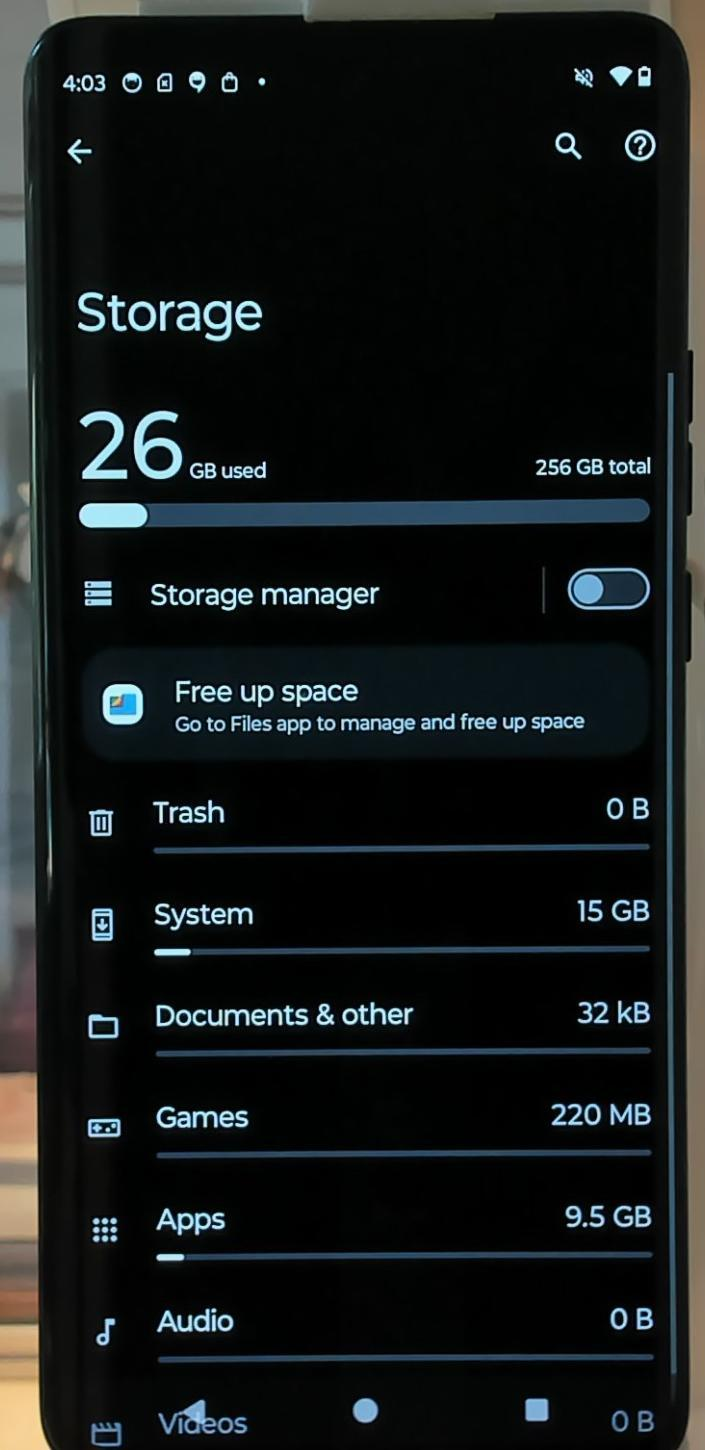Checkbox: (563, 556, 657, 619)
menu: (77, 568, 121, 618)
